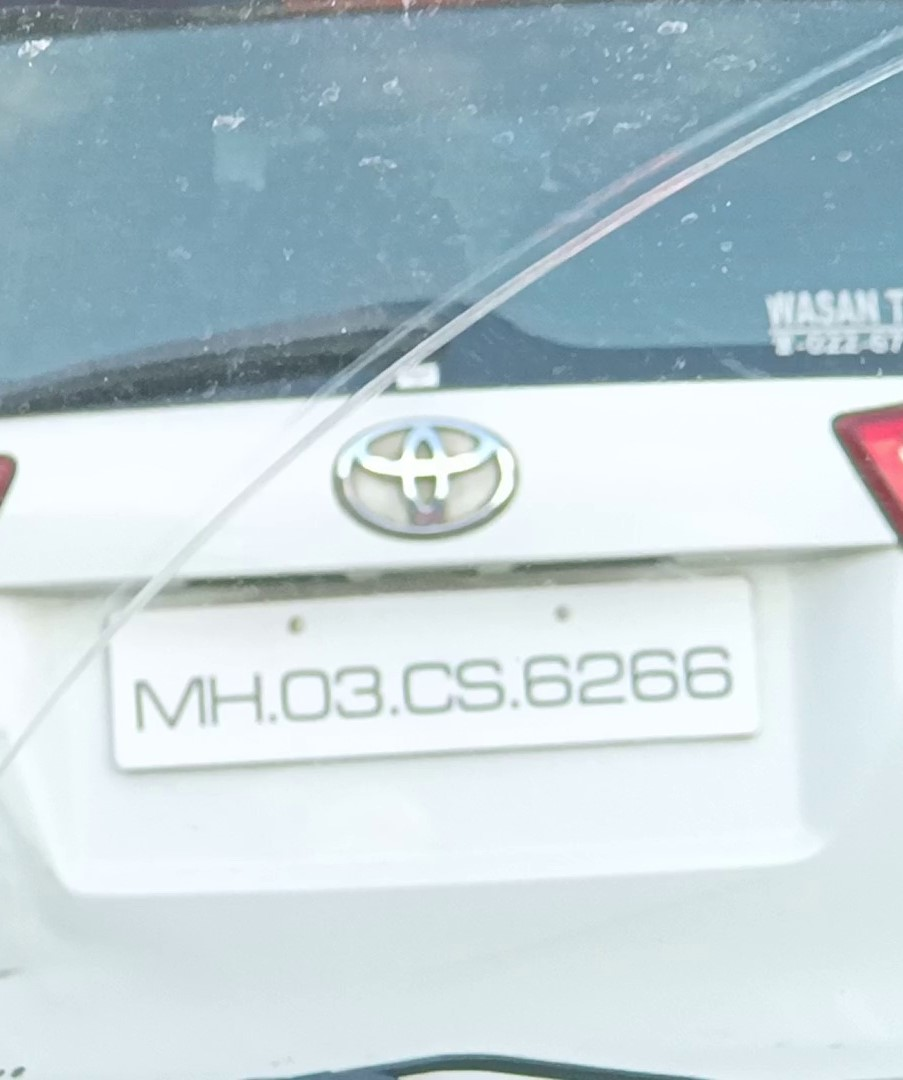MH03CS6266: (105, 571, 760, 770)
